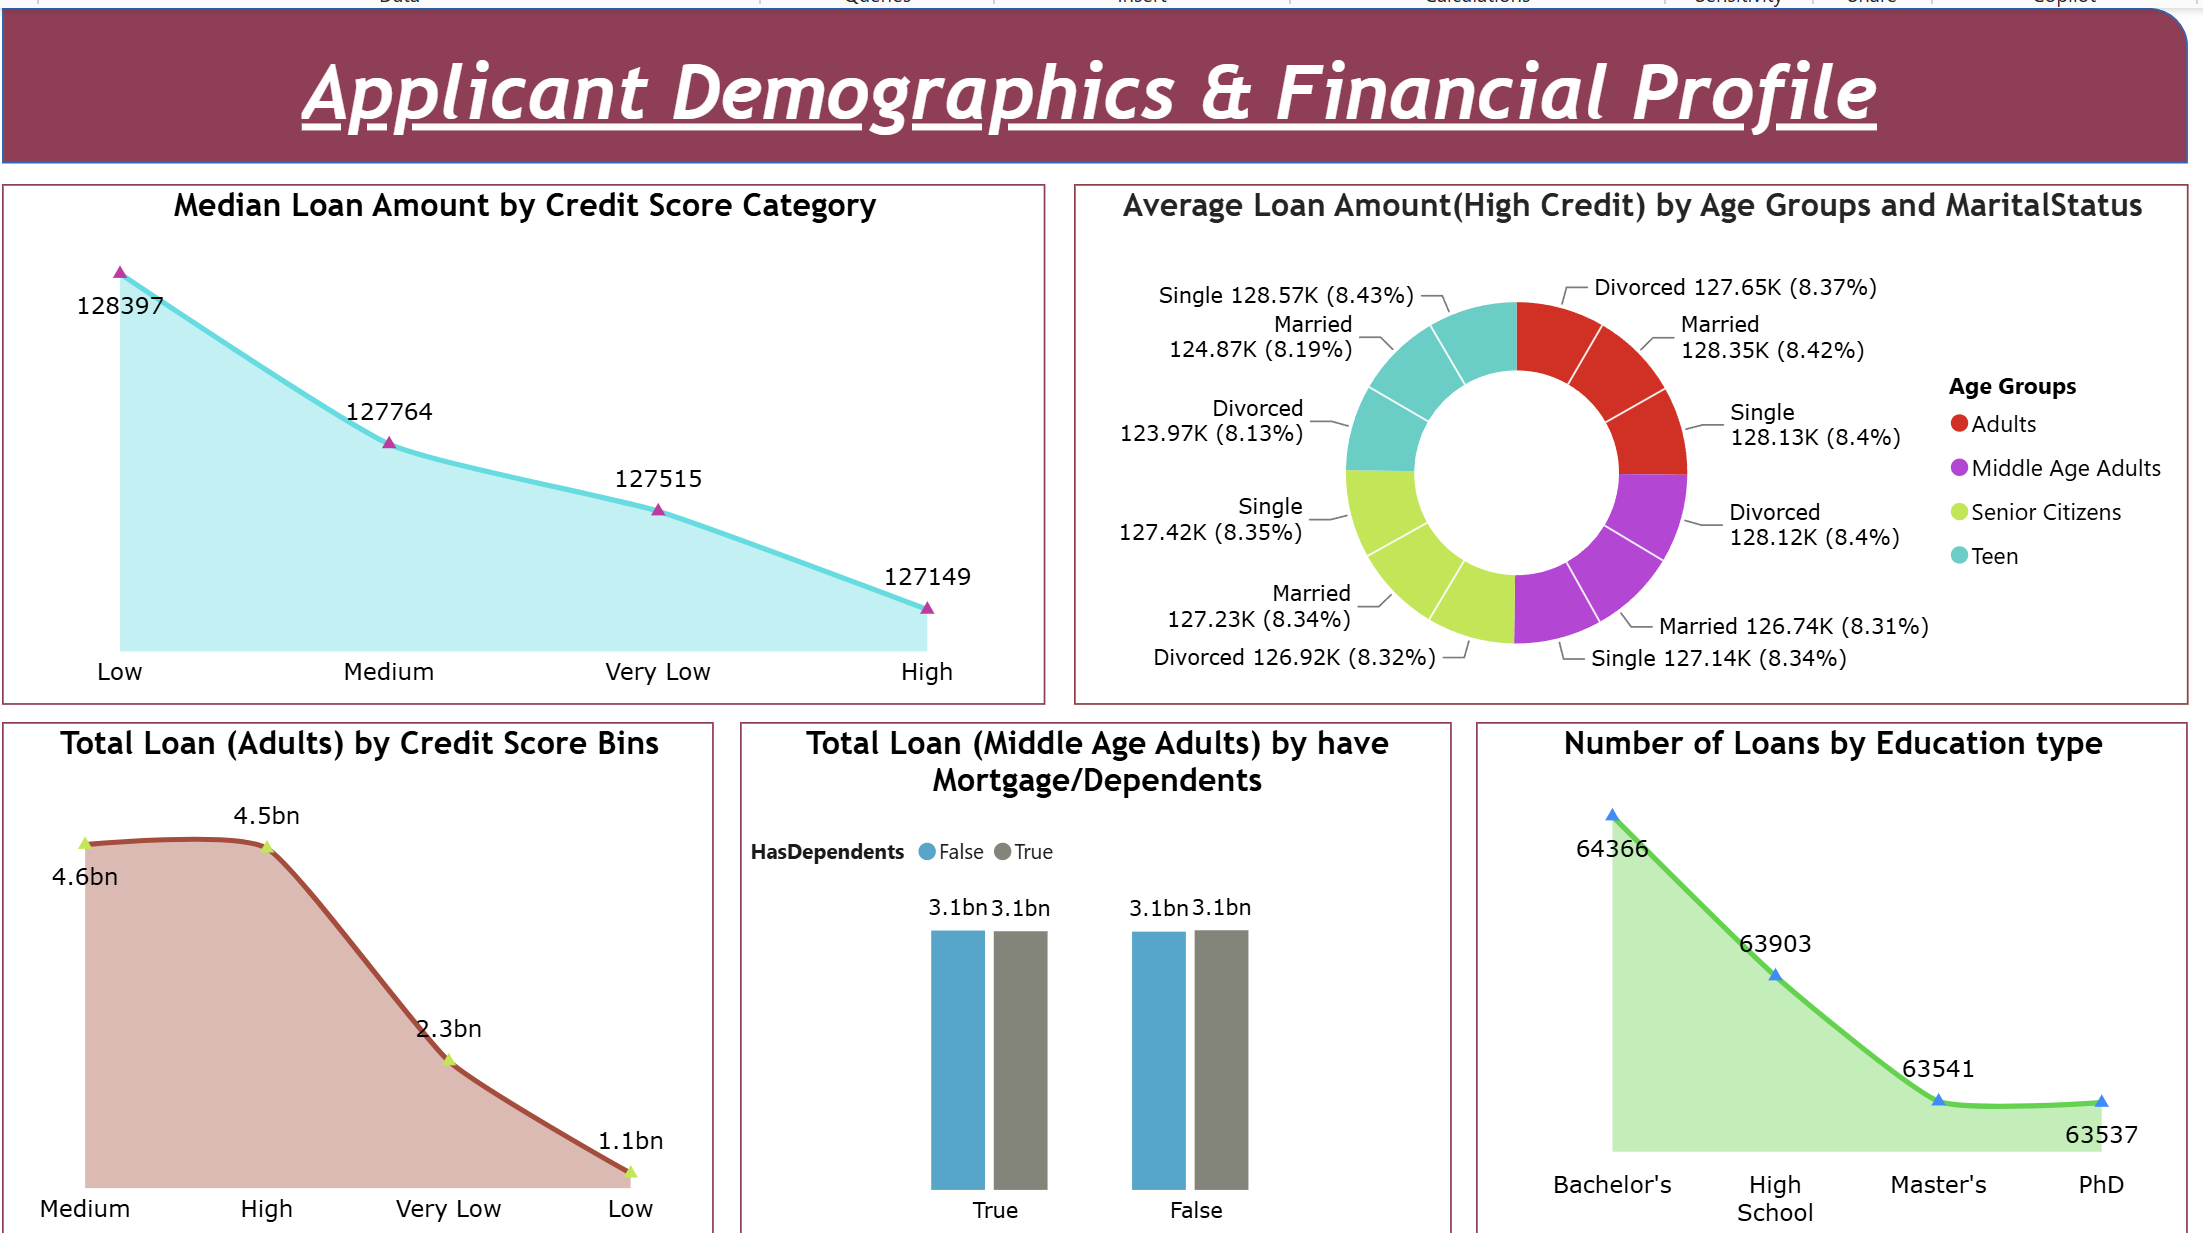

The page's visual inventory and layout, read from the dashboard file:
{"tool":"powerbi","page":{"name":"Applicant Demographics & Financial Profile","canvas":[1280,720],"ordinal":1},"visuals":[{"type":"shape","box":[10.4,0,1259.2,89.6],"z":0},{"type":"lineChart","title":"Median Loan Amount by Credit Score Category","fields":{"Category":["Loan_default.Credit Score Bins"],"Y":["Measures Table 2.Median by Credit Score Bins"]},"box":[10,101.7,601,300.2],"z":1000},{"type":"donutChart","fields":{"Category":["Loan_default.Age Groups"],"Series":["Loan_default.MaritalStatus"],"Y":["Measures Table 2.Average Loan Amount(High Credit)"]},"box":[628.1,101.7,641.9,300.2],"z":2000},{"type":"lineChart","title":"Total Loan (Adults) by Credit Score Bins","fields":{"Category":["Loan_default.Credit Score Bins"],"Y":["Measures Table 2.Total Loan (Credit Bins)"]},"box":[10.4,411.3,410,299.5],"z":3000},{"type":"clusteredColumnChart","title":"Total Loan (Middle Age Adults) by have Mortgage/Dependents","fields":{"Category":["Loan_default.HasMortgage"],"Series":["Loan_default.HasDependents"],"Y":["Measures Table 2.Total Loan (Middle Age Adults)"]},"box":[435.5,411.3,410,299.5],"z":4000},{"type":"lineChart","title":"Number of Loans by Education type","fields":{"Category":["Loan_default.Education"],"Y":["Measures Table 2.Loans by Education Type"]},"box":[859.4,411.3,410,299.5],"z":5000}]}

Visuals, with their boxes on the page's 1280x720 design canvas (x1, y1, x2, y2). These are canvas units, not pixel positions in the 2203x1233 screenshot, which may show the page scaled, cropped or inside an application window:
shape: region(10, 0, 1270, 90)
"Median Loan Amount by Credit Score Category" lineChart: region(10, 102, 611, 402)
donutChart - Loan_default.Age Groups x Loan_default.MaritalStatus: region(628, 102, 1270, 402)
"Total Loan (Adults) by Credit Score Bins" lineChart: region(10, 411, 420, 711)
"Total Loan (Middle Age Adults) by have Mortgage/Dependents" clusteredColumnChart: region(436, 411, 846, 711)
"Number of Loans by Education type" lineChart: region(859, 411, 1269, 711)
